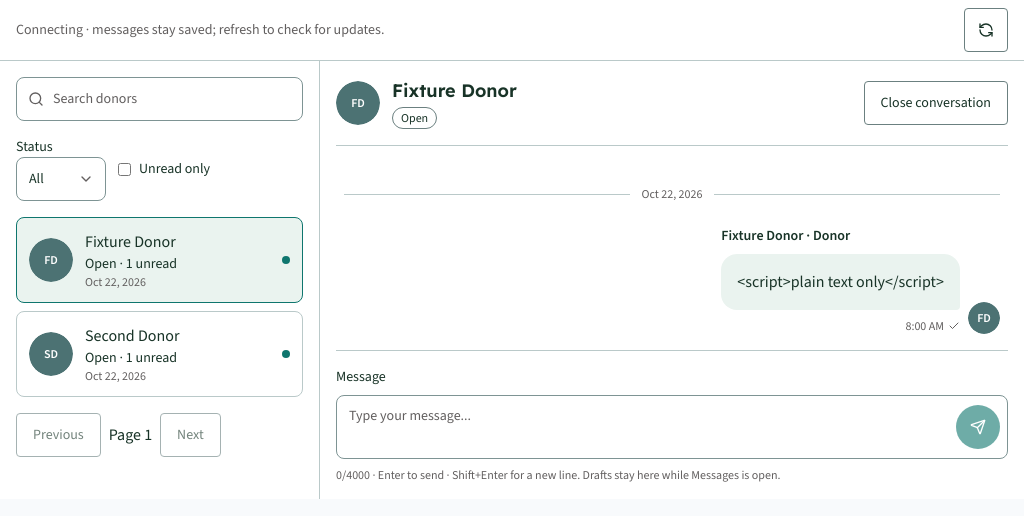
Test: SupportPage › retains separate drafts while staff switch between conversations
Type "First draft" into the text box labelled "Message" at coordinates (672, 427), box x1=336 y1=395 x2=1008 y2=459
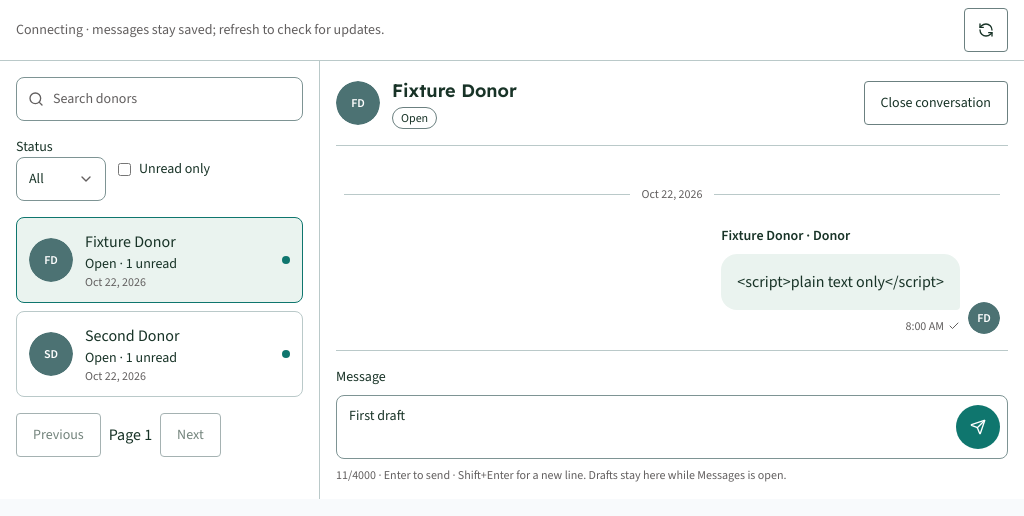
Click the button "SD Second Donor Open · 1 unread Oct 22, 2026" at coordinates (160, 354), box x1=16 y1=311 x2=303 y2=397
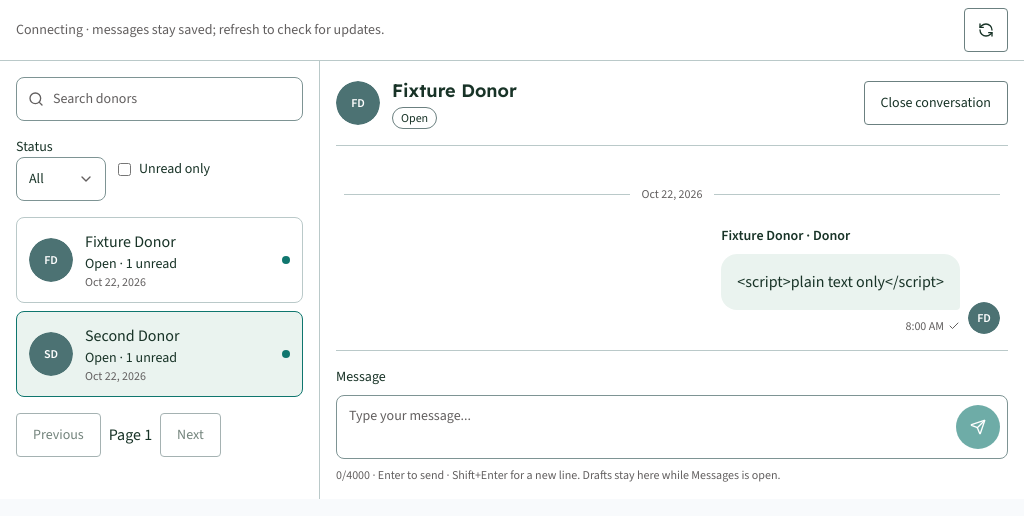
Check: the text box labelled "Message" is empty
Type "Second draft" into the text box labelled "Message" at coordinates (672, 427), box x1=336 y1=395 x2=1008 y2=459
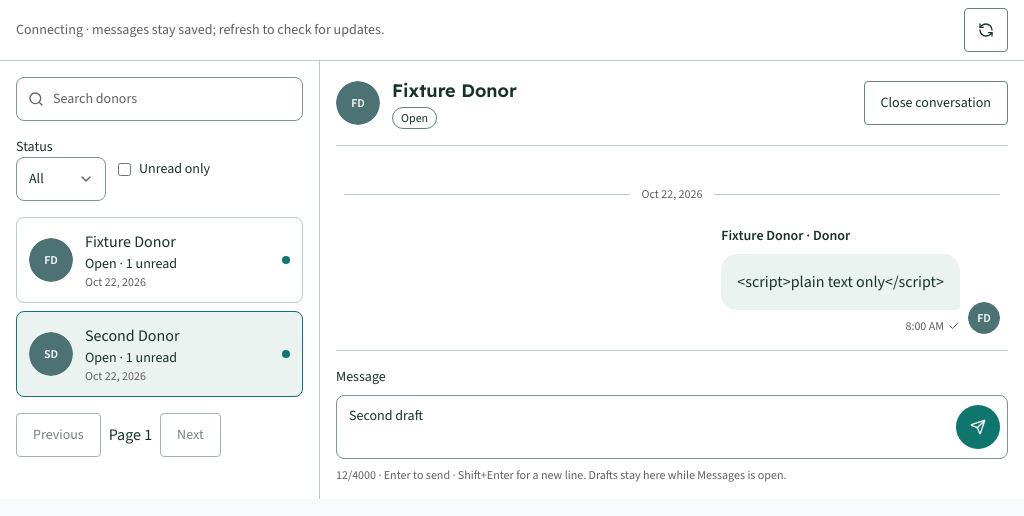
Click the button "Fixture Donor" at coordinates (160, 260), box x1=16 y1=217 x2=303 y2=303
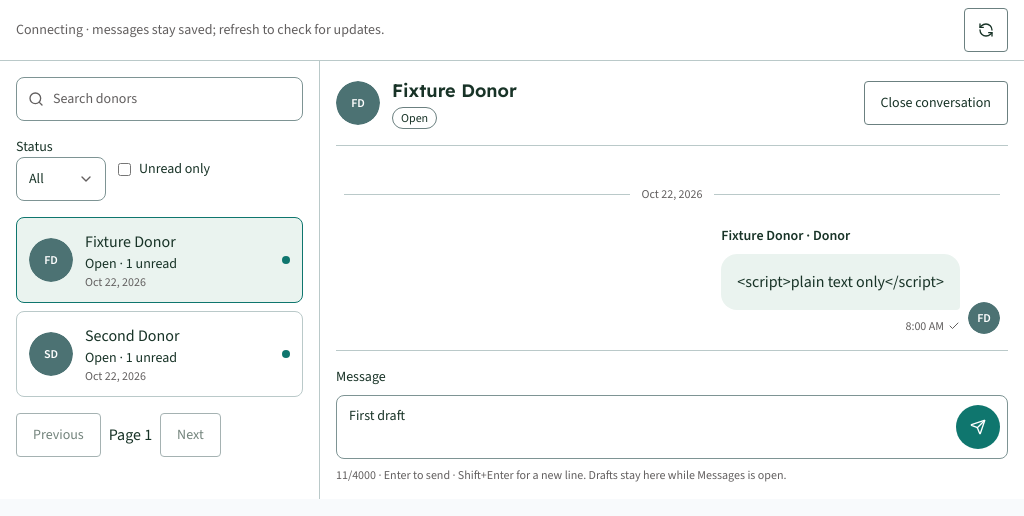
Check: the text box labelled "Message" holds "First draft", box x1=336 y1=395 x2=1008 y2=459
